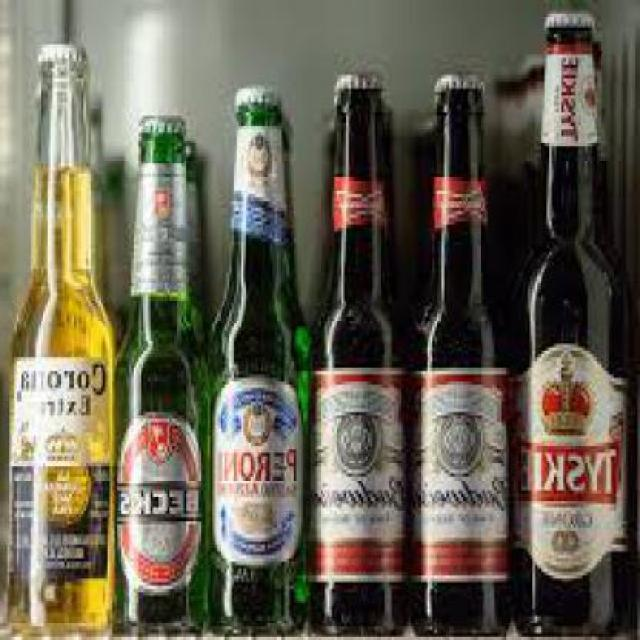GLASS: (511, 27, 631, 636), (12, 55, 117, 636), (205, 101, 313, 637), (412, 92, 513, 637), (308, 89, 408, 636), (117, 126, 212, 637)
METAL: (337, 65, 385, 89), (438, 68, 487, 86), (548, 7, 597, 24), (42, 41, 88, 58), (242, 82, 282, 98), (141, 116, 187, 125)
